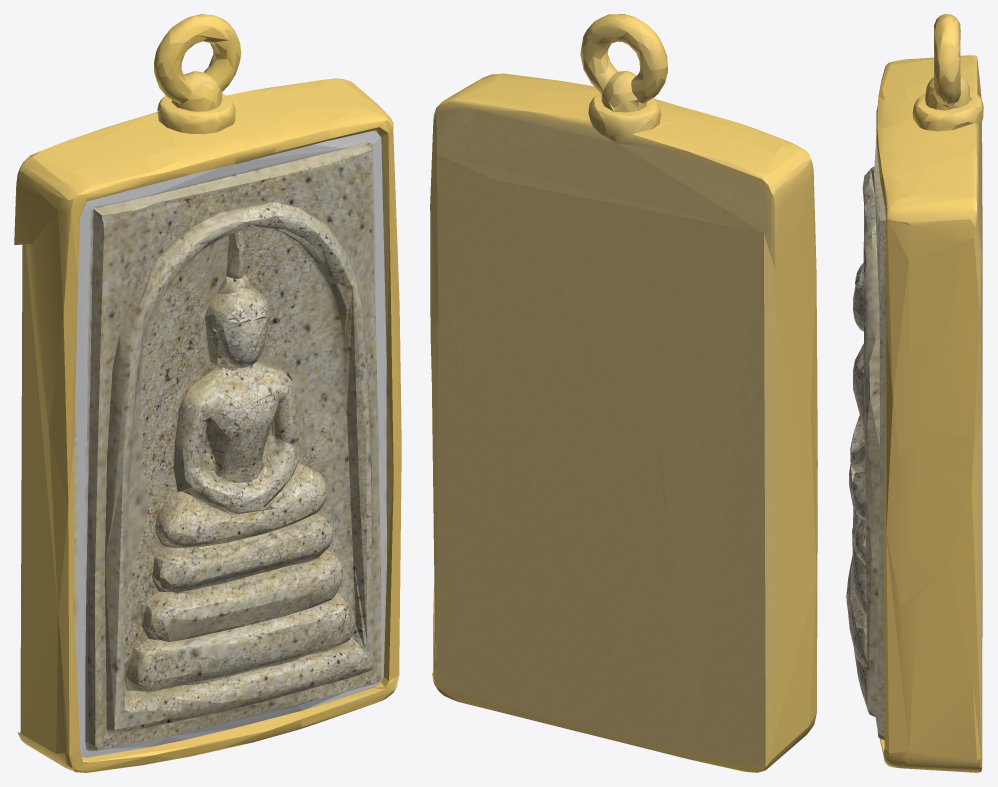
File: remeshed-somdej.glb
3 renders of one model, left to right at view 1: azimuth 30°, elevation 25°; view 2: azimuth 150°, elevation 25°; view 3: azimuth 270°, elevation 25°, orthographic. The views are drawn at different scales.
Parts seen in each view (by area): view 1: output_unwrapped; view 2: output_unwrapped; view 3: output_unwrapped.
Boxes of the visible parts, box(x1,y1,x2,y2) form: output_unwrapped: box(14, 14, 401, 772); output_unwrapped: box(430, 14, 817, 772); output_unwrapped: box(846, 14, 983, 772).
Size of the model in its own units: 0.9698 by 1.9 by 0.346.
1 material, 1 textured.
